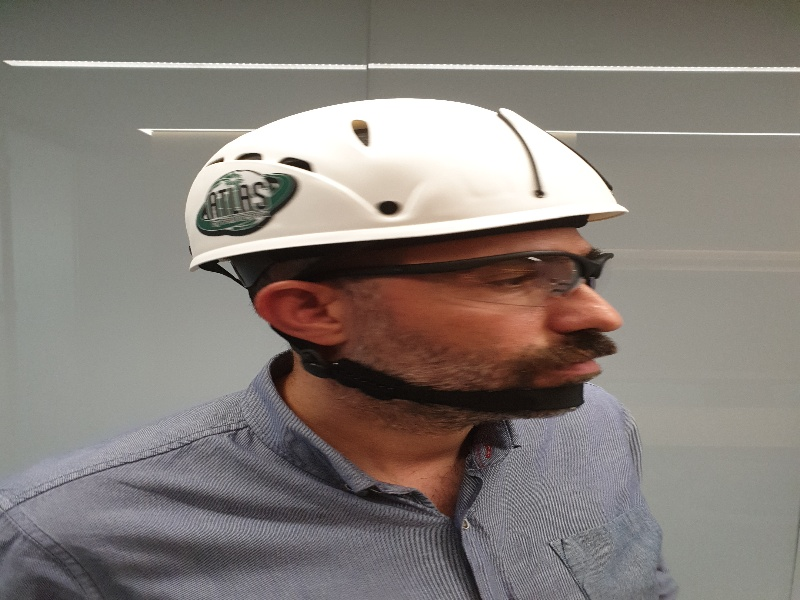Baret: (185, 97, 630, 254)
Gozluk: (311, 251, 614, 305)
